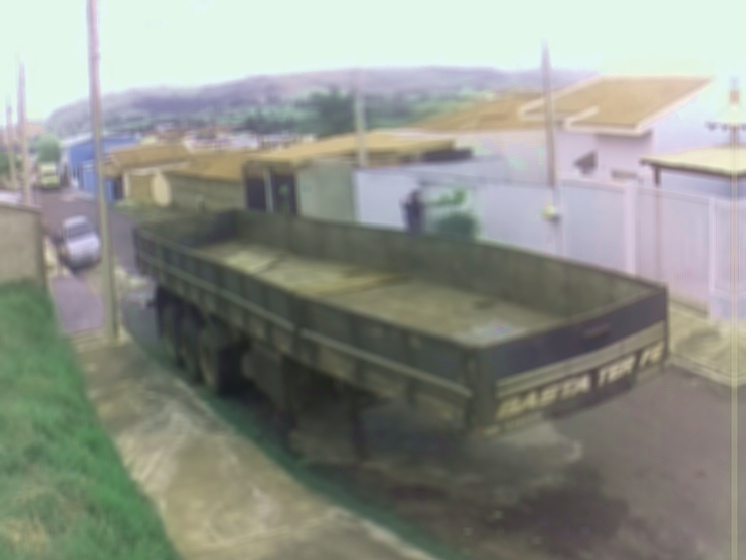person: (400, 188, 428, 233)
